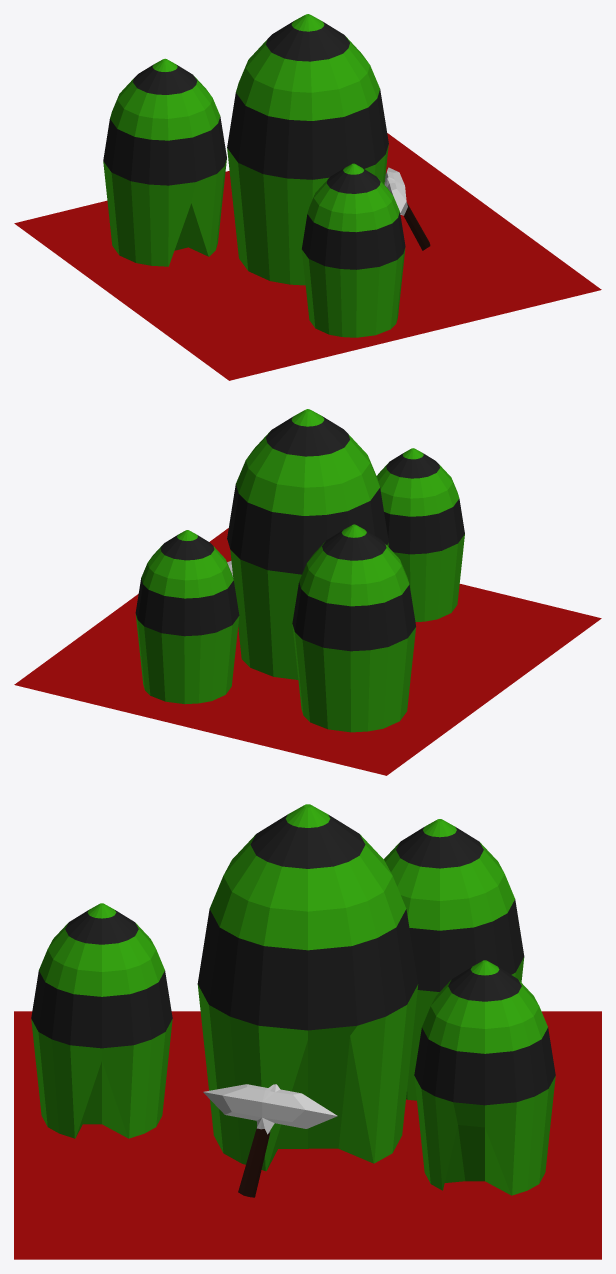
File: GiantLiar.obj
The picture shows the model from 3 angles, top to bottom: view 1: azimuth 30°, elevation 25°; view 2: azimuth 150°, elevation 25°; view 3: azimuth 270°, elevation 25°; orthographic projection. The views are drawn at different scales.
Parts seen in each view (by area): view 1: Plane.004, Plane, Plane.003, Plane.002, Cube.001_Cube.002; view 2: Plane.004, Plane, Plane.003, Plane.001, Plane.002; view 3: Plane.004, Plane, Plane.002, Plane.001, Plane.003, Cube.001_Cube.002.
Boxes of the visible parts, bbox=[...] form: Plane.004: bbox=[14, 133, 601, 380]; Plane: bbox=[227, 14, 388, 285]; Plane.003: bbox=[103, 58, 226, 266]; Plane.002: bbox=[301, 163, 405, 337]; Cube.001_Cube.002: bbox=[384, 167, 430, 250]; Plane.004: bbox=[14, 528, 601, 775]; Plane: bbox=[227, 409, 388, 679]; Plane.003: bbox=[292, 524, 416, 732]; Plane.001: bbox=[135, 530, 239, 704]; Plane.002: bbox=[376, 448, 464, 621]; Plane.004: bbox=[14, 1011, 601, 1259]; Plane: bbox=[197, 804, 418, 1171]; Plane.002: bbox=[31, 903, 172, 1138]; Plane.001: bbox=[414, 960, 555, 1195]; Plane.003: bbox=[384, 819, 524, 1100]; Cube.001_Cube.002: bbox=[203, 1084, 337, 1197].
Bounding box in the file's own units: 12.86 × 8.02 × 12.86.
